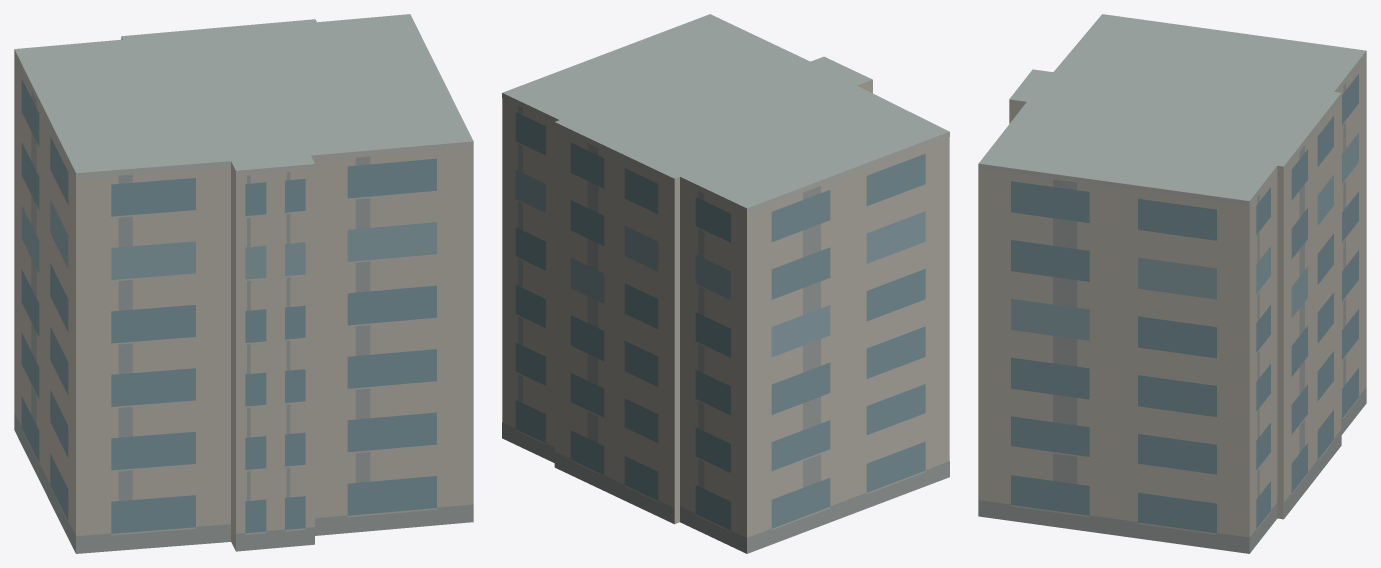
Rendered from survey-upis-32883313.glb.
3 renders of one model, left to right at view 1: azimuth 30°, elevation 25°; view 2: azimuth 150°, elevation 25°; view 3: azimuth 270°, elevation 25°, orthographic. The views are drawn at different scales.
Parts seen in each view (by area): view 1: survey-upis-32883313.tmp; view 2: survey-upis-32883313.tmp; view 3: survey-upis-32883313.tmp.
Boxes of the visible parts, left/top/right/bottom form: survey-upis-32883313.tmp: left=14, top=14, right=473, bottom=553; survey-upis-32883313.tmp: left=502, top=14, right=949, bottom=553; survey-upis-32883313.tmp: left=978, top=14, right=1366, bottom=553.
Bounding box in the file's own units: 17.75 × 15.6 × 15.56.
